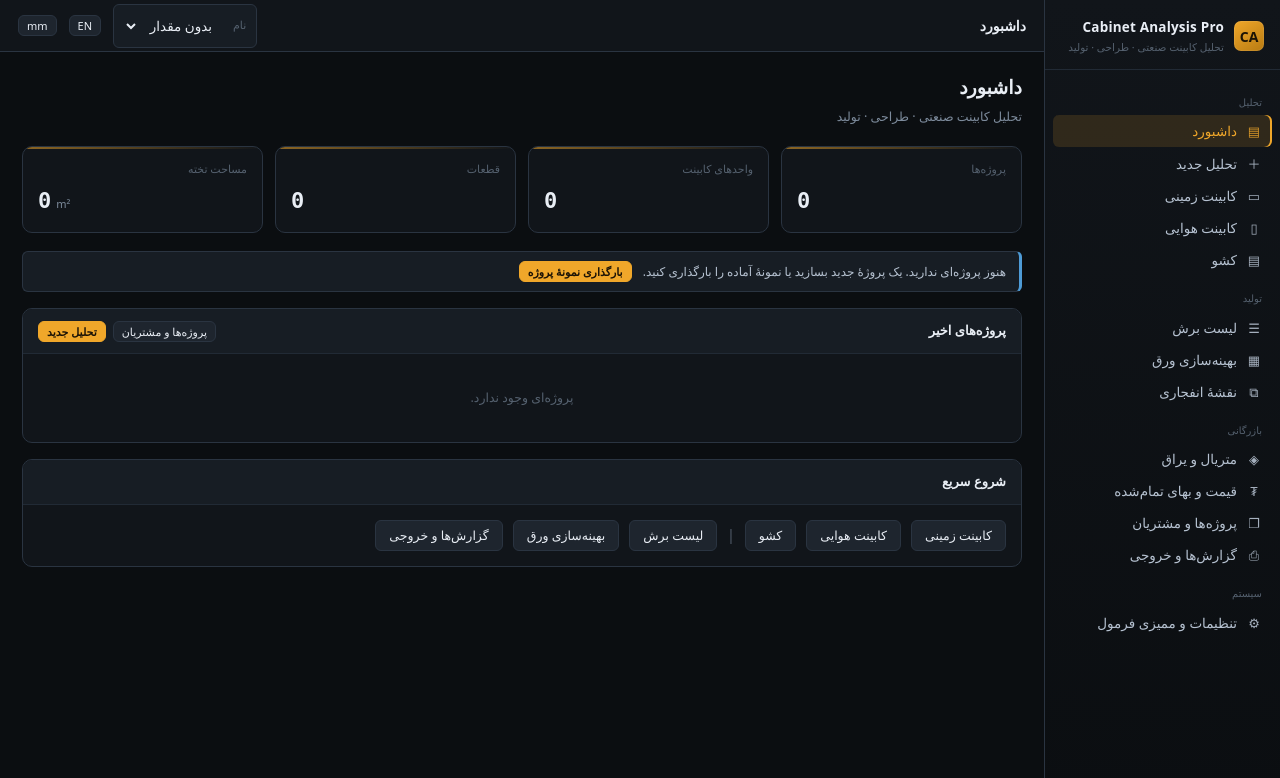
Scenario: ground cabinet screen › recalculates the shelf length when the cabinet width changes
Click the button "بارگذاری نمونهٔ پروژه" at point(575, 272), box [519,261,632,282]
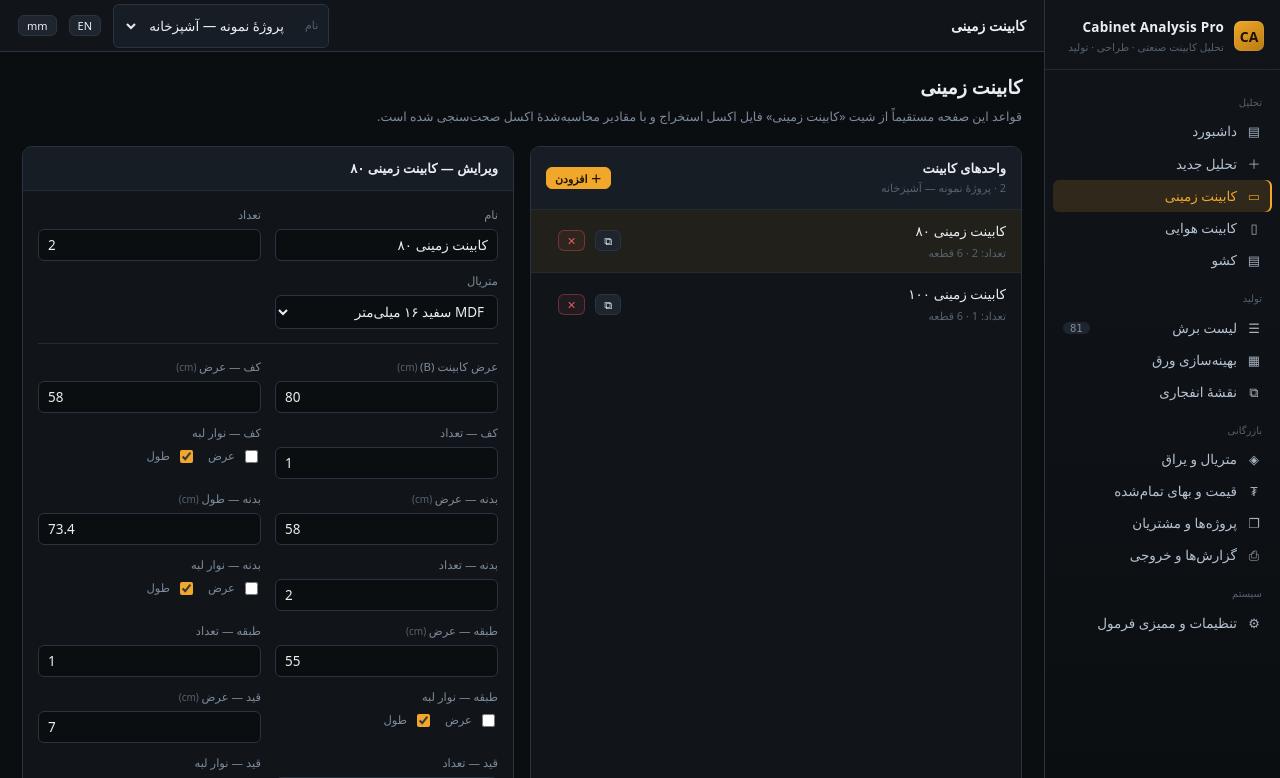
Click the button "▭ کابینت زمینی" at point(1162, 196), box [1053,180,1272,212]
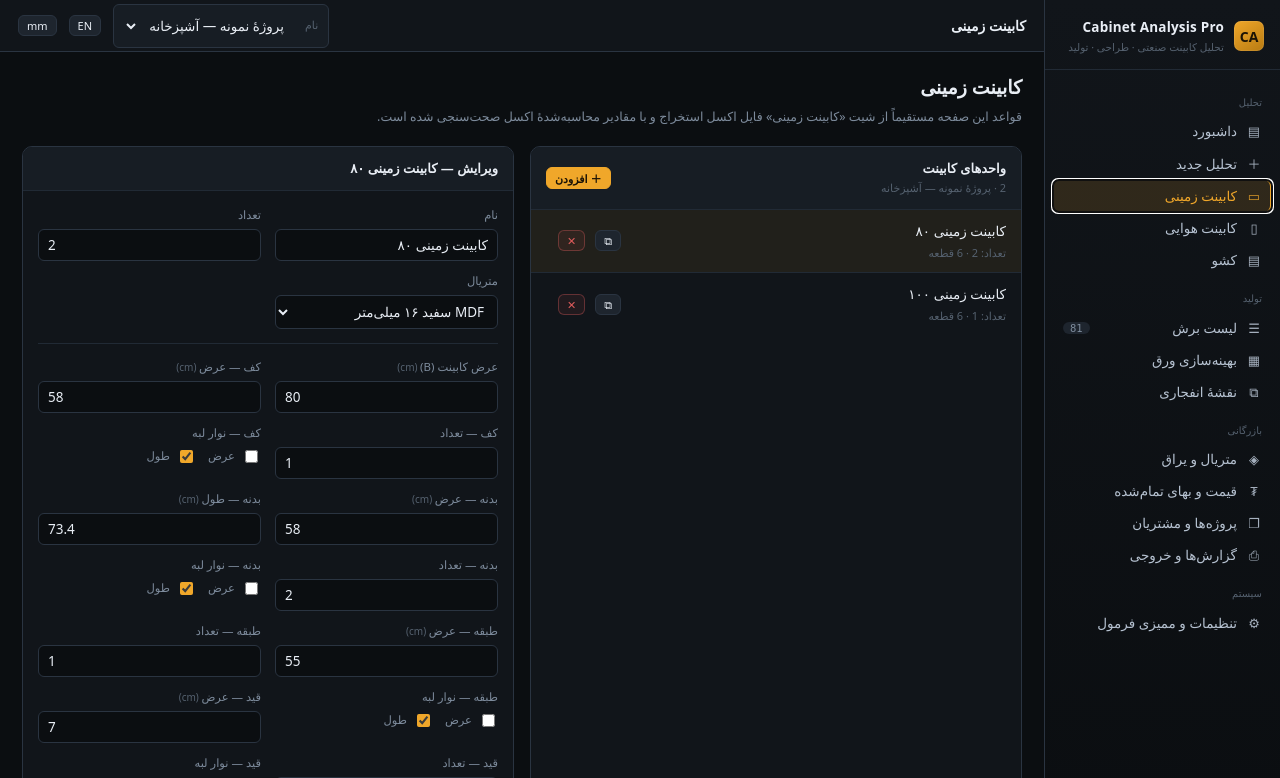
Check: the field labelled "عرض کابینت (B) (cm)" holds "80"
Replace the text in the field labelled "عرض کابینت (B) (cm)" with "90" at point(386, 397), box [275,381,498,413]
(page scrolled)
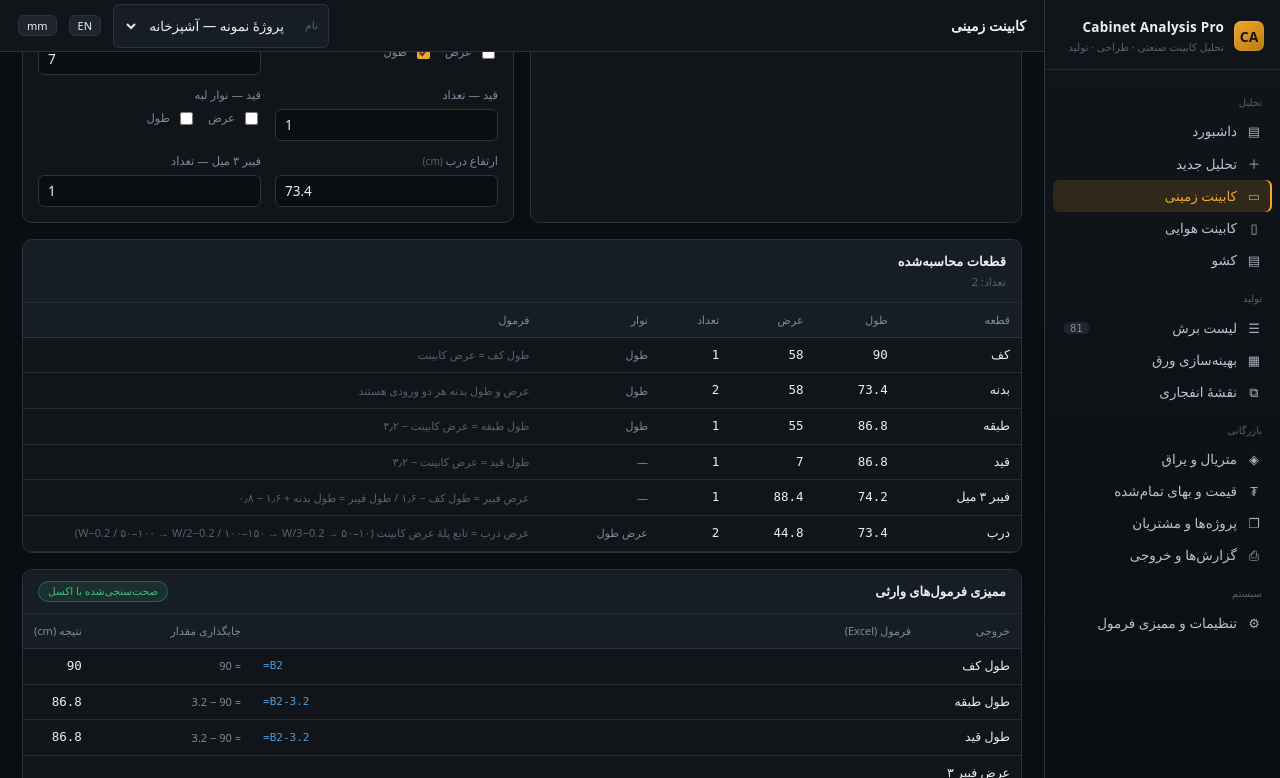
Check: the text "86.8" next to "55" is shown, box [858,418,888,433]
